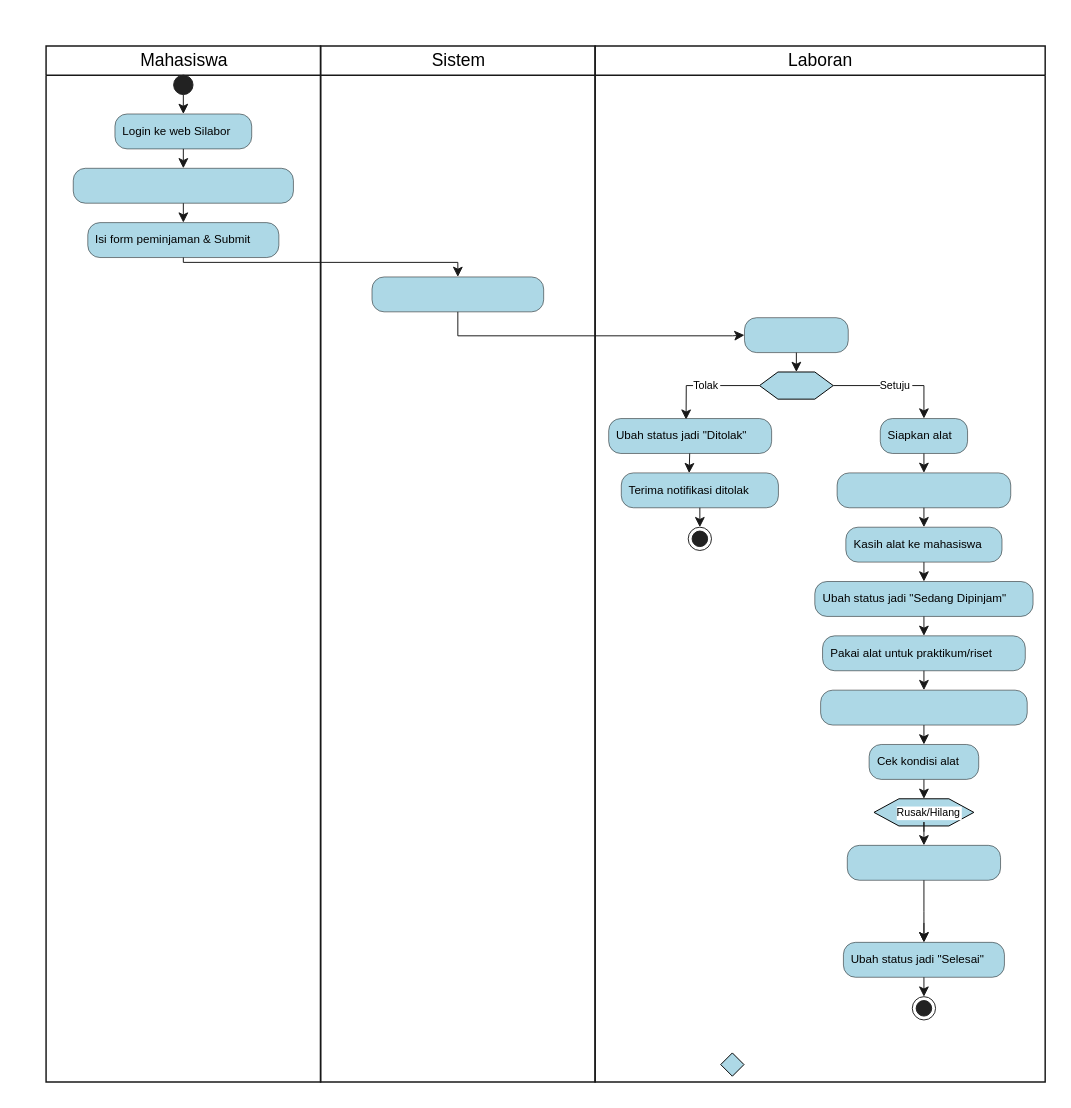
Image size: 1071x1108. Some labels were removed from this diagram. Here are the shapes that lost their labels. From the top down, the centre of each, then its label:
At (x=183, y=185): "Pilih alat/bahan yang mau dipinjam".
At (x=457, y=294): "Kirim notifikasi ke Laboran".
At (x=796, y=334): "Cek pengajuan".
At (x=796, y=385): "Disetujui?".
At (x=923, y=490): "Ambil alat ke Laboratorium".
At (x=923, y=707): "Kembalikan alat ke Laboratorium".
At (x=923, y=862): "Ganti rugi atau perbaiki".
